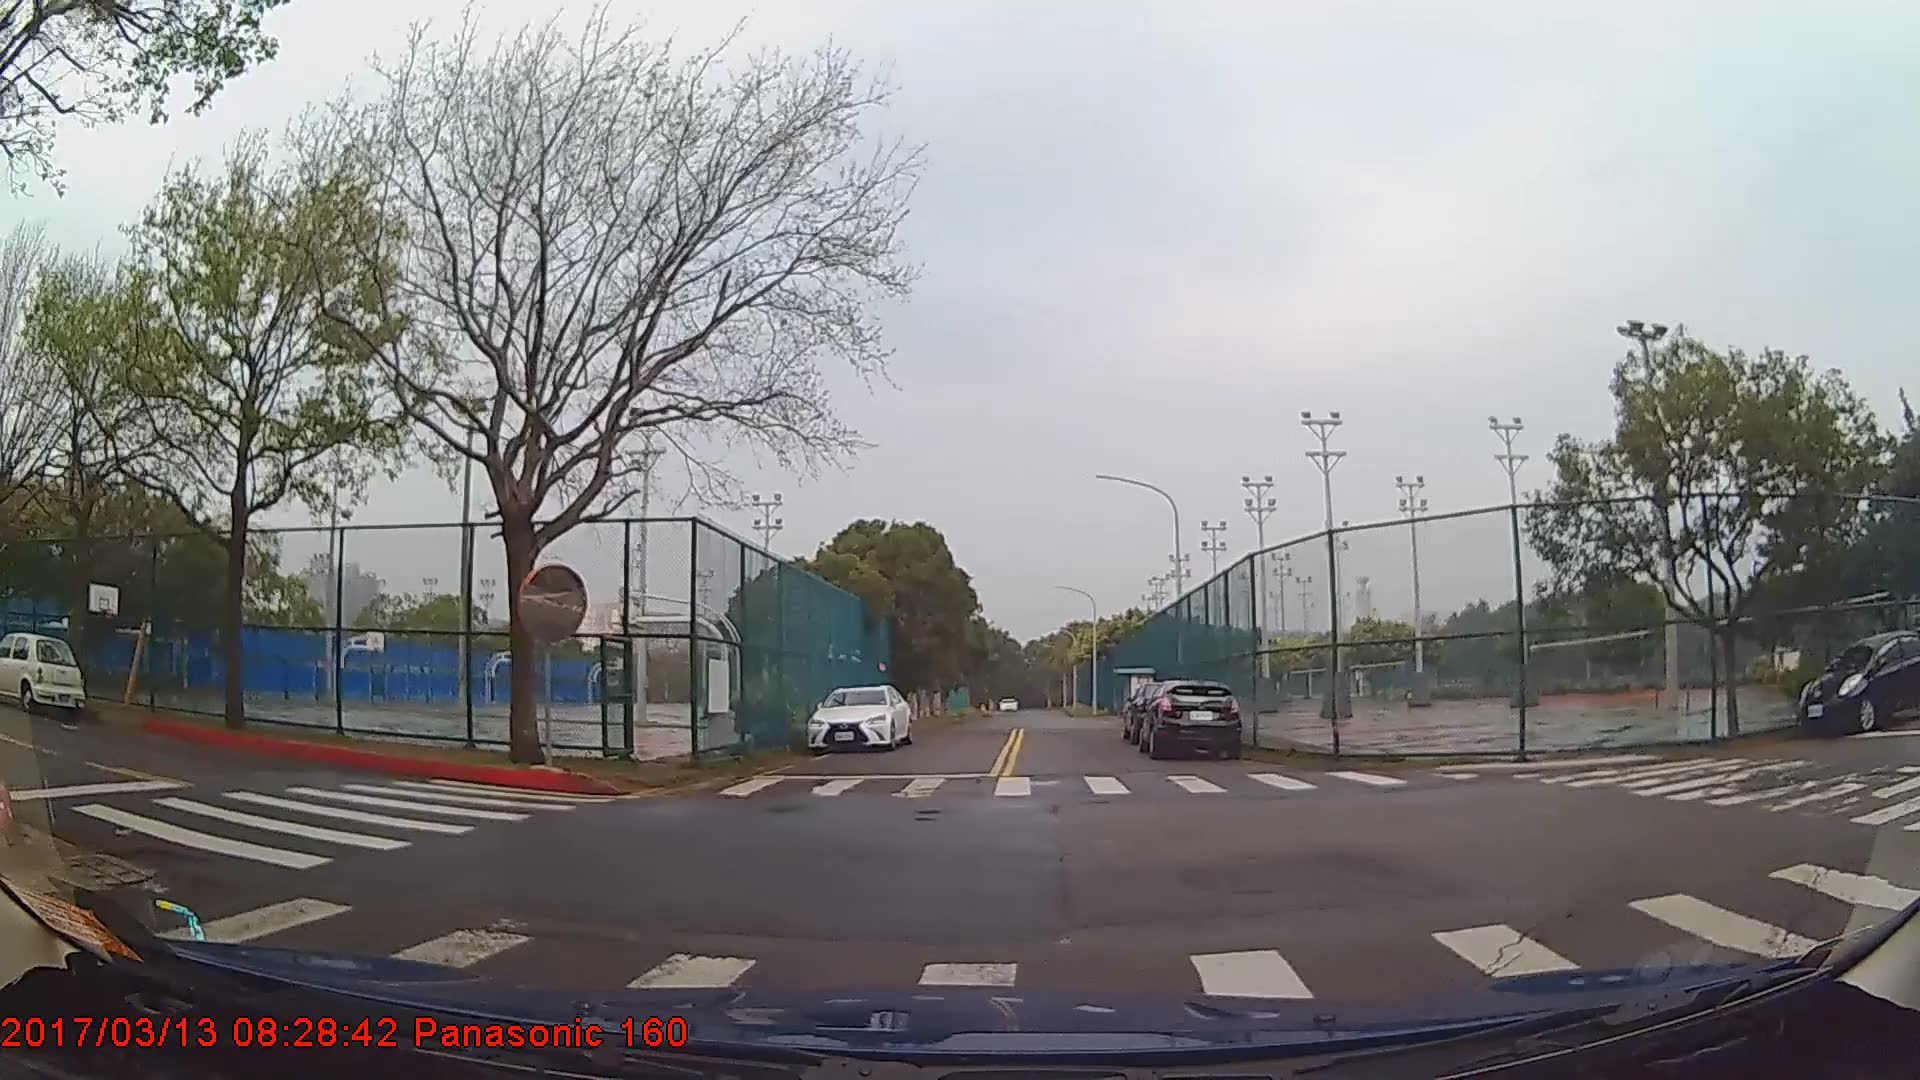vehicle: (1799, 622, 1920, 736), (1142, 680, 1246, 764), (808, 684, 914, 757), (0, 632, 88, 717)
